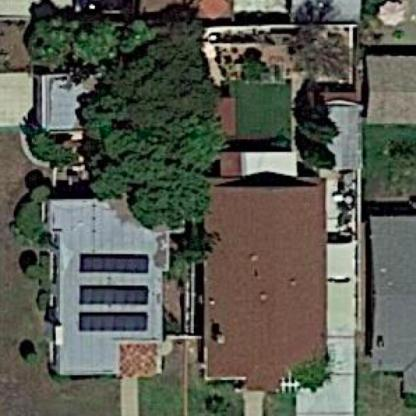solar_panel: (79, 247, 153, 281), (80, 282, 155, 310), (71, 311, 153, 334)
